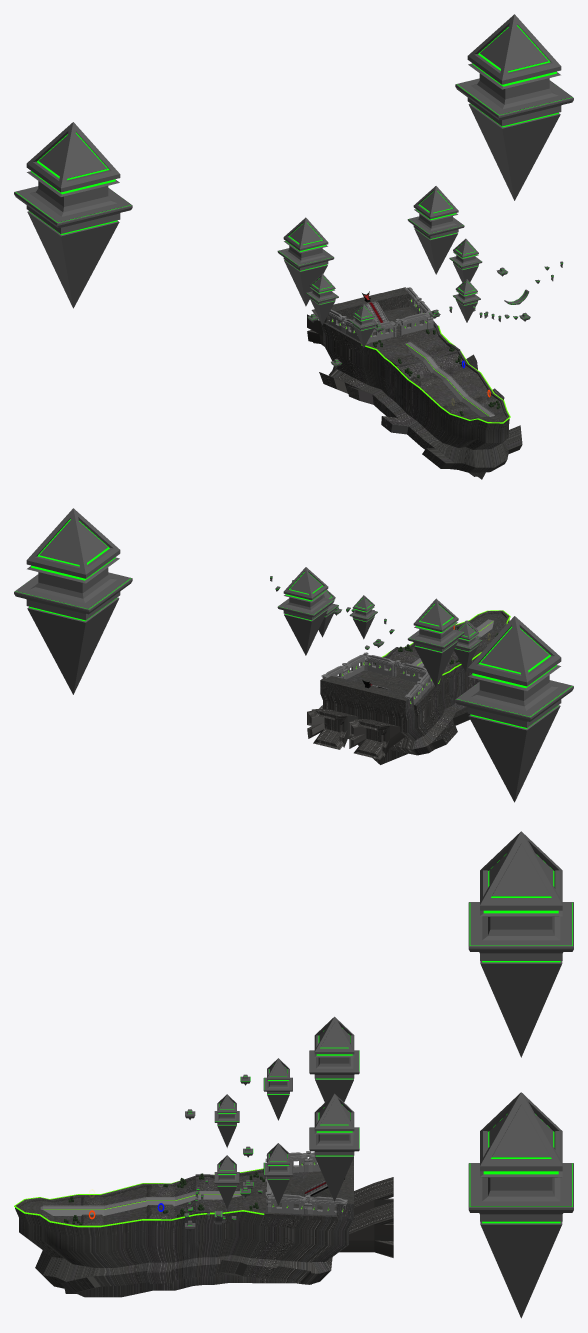
3 renders of one model, top to bottom at view 1: azimuth 30°, elevation 25°; view 2: azimuth 150°, elevation 25°; view 3: azimuth 270°, elevation 25°, orthographic. The views are drawn at different scales.
Parts seen in each view (by area): view 1: BigTower.004, Landscape_ShipFloor, BigTower.002, BigTower.001, BigTower.003, Cube.001, ShipWall; view 2: BigTower.004, Landscape_ShipFloor, BigTower.002, BigTower.001, ShipWall, BigTower.003, ShipWall.001; view 3: Landscape_ShipFloor, BigTower.004, BigTower.002, BigTower.001, Cube.001, BigTower.003, ShipWall.001, outerBeam, ShipWall.003.
Part boxes in pixels (x1,y1,x2,y2): BigTower.004: [14, 14, 573, 308]; Landscape_ShipFloor: [307, 287, 522, 479]; BigTower.002: [277, 186, 464, 306]; BigTower.001: [306, 238, 482, 324]; BigTower.003: [350, 279, 480, 348]; Cube.001: [405, 342, 494, 417]; ShipWall: [369, 313, 429, 342]; BigTower.004: [14, 508, 573, 802]; Landscape_ShipFloor: [307, 610, 509, 764]; BigTower.002: [277, 567, 464, 687]; BigTower.001: [318, 590, 482, 671]; ShipWall: [366, 655, 427, 682]; BigTower.003: [349, 595, 480, 639]; ShipWall.001: [346, 654, 432, 695]; Landscape_ShipFloor: [15, 1158, 393, 1297]; BigTower.004: [468, 831, 573, 1318]; BigTower.002: [309, 1016, 359, 1201]; BigTower.001: [263, 1058, 292, 1205]; Cube.001: [40, 1191, 241, 1215]; BigTower.003: [214, 1094, 239, 1208]; ShipWall.001: [268, 1152, 306, 1214]; outerBeam: [14, 1168, 264, 1227]; ShipWall.003: [309, 1152, 347, 1215].
Size of the model in its own units: 546 by 280 by 423.
Materials: 23 (7 with a texture image).
